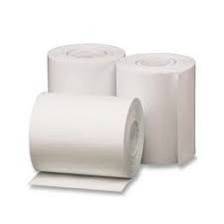tissue: (19, 88, 149, 198), (110, 47, 202, 172), (42, 38, 129, 101)
